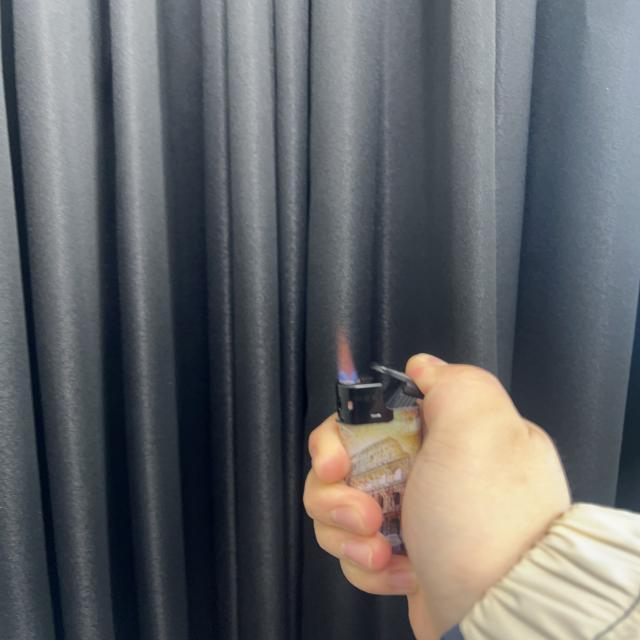fire: (336, 326, 358, 384)
